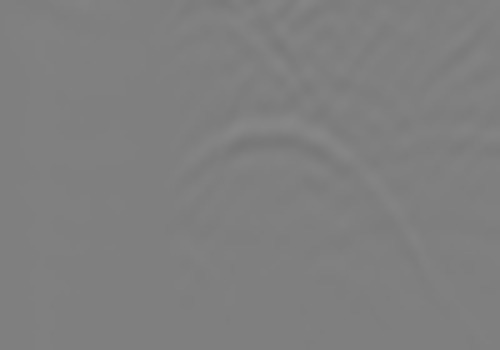hyperbola: (123, 117, 461, 318)
